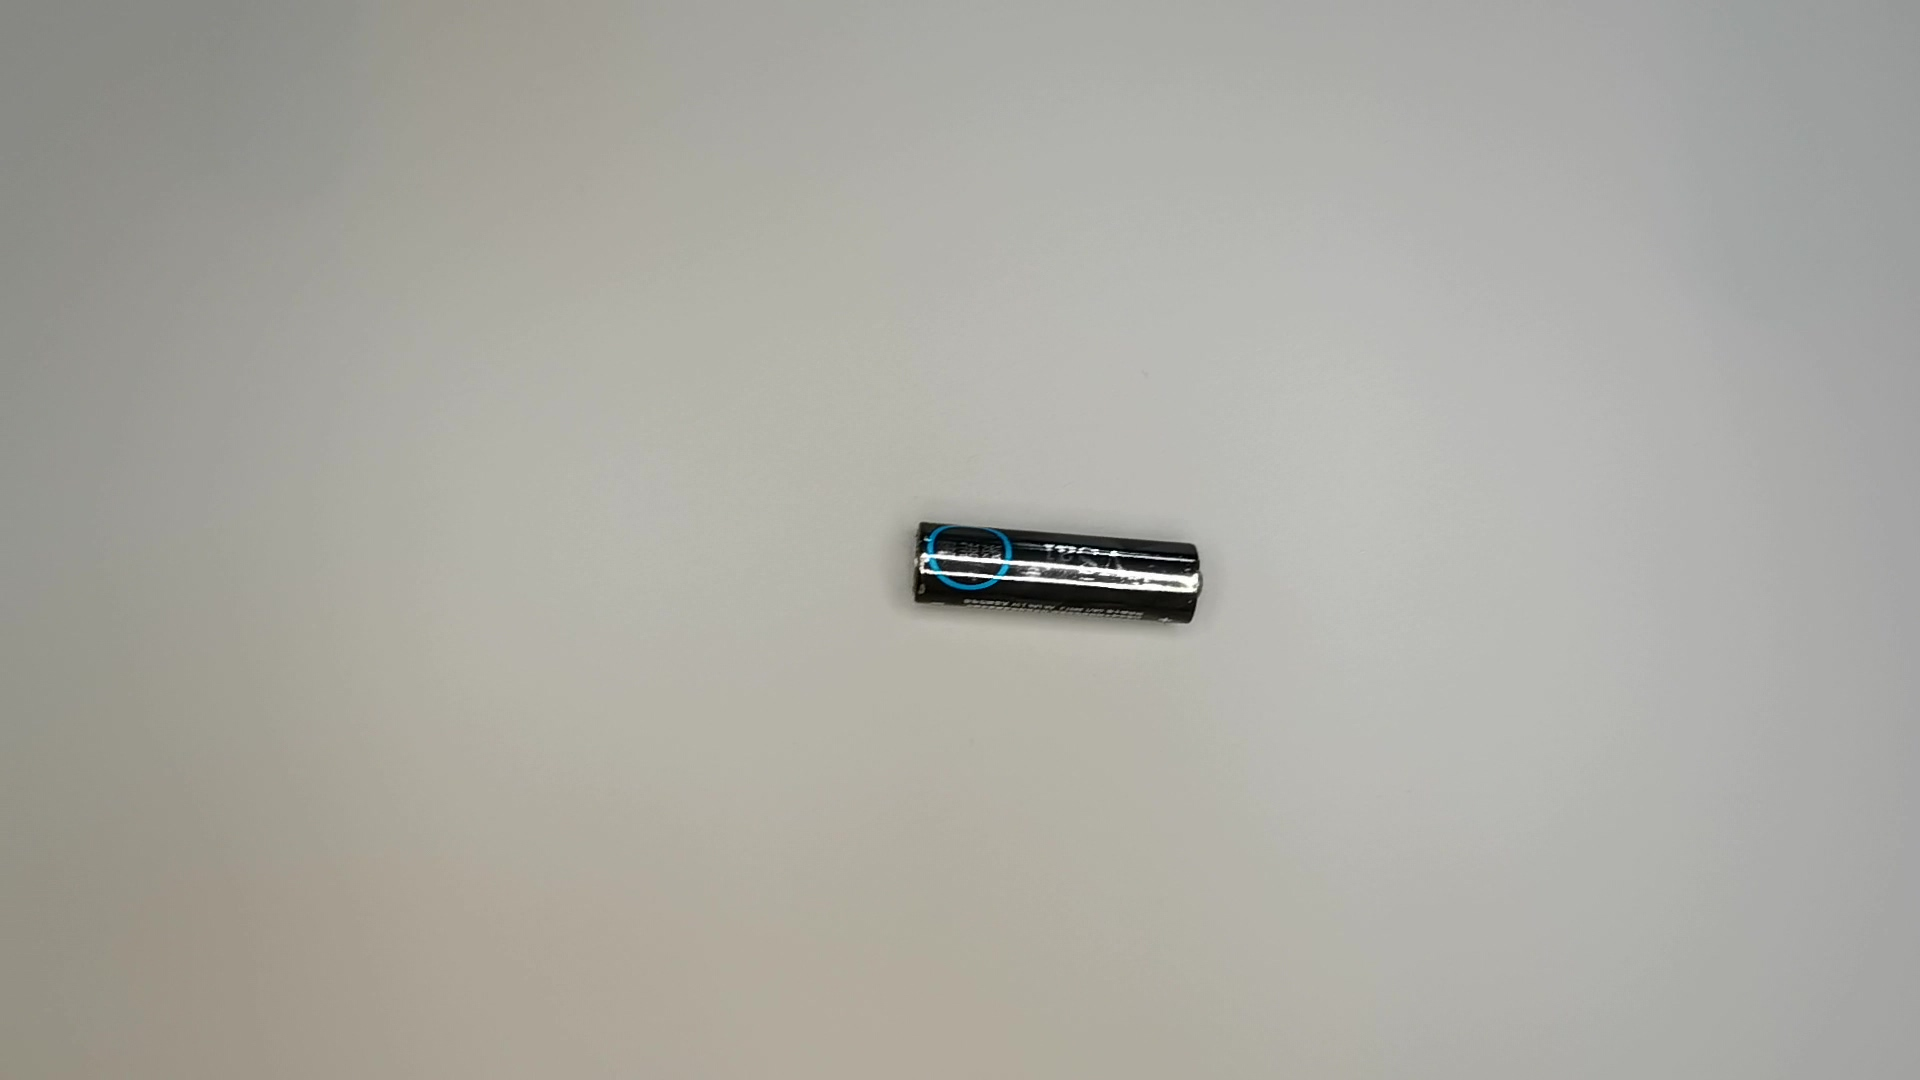battery: (906, 513, 1204, 630)
